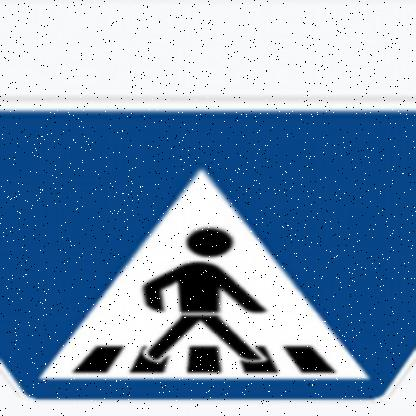Pedestrian Crossing: (1, 98, 416, 411)
